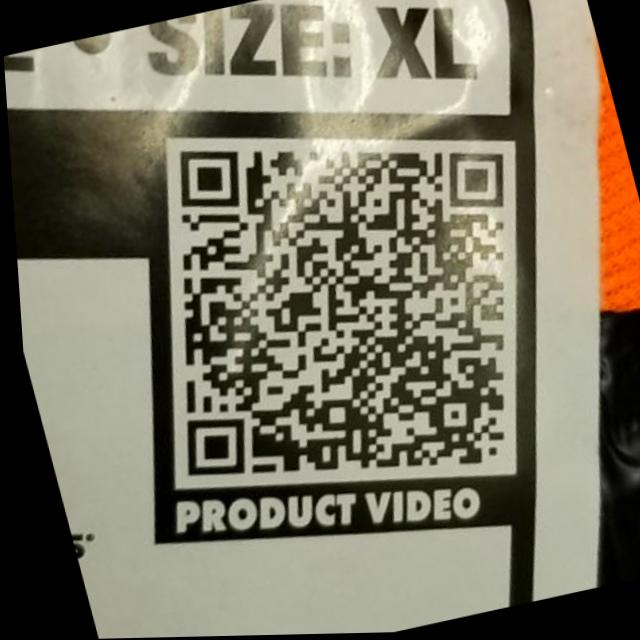QR_CODE: (84, 65, 595, 541)
